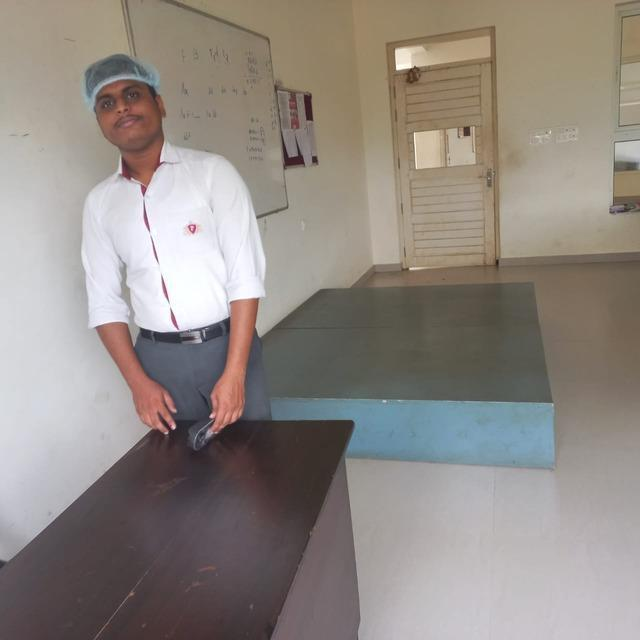bare_hand: (133, 375, 179, 437), (207, 375, 247, 430)
